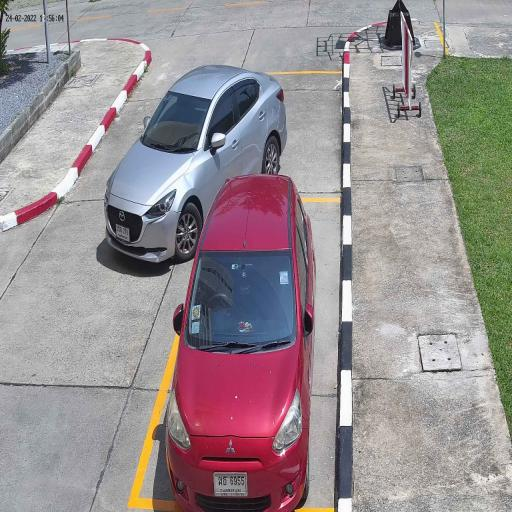car: (164, 174, 318, 509), (102, 62, 289, 264)
